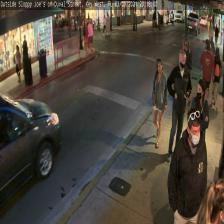person: (167, 110, 207, 224), (166, 49, 192, 162), (188, 79, 208, 166), (152, 58, 167, 148)
